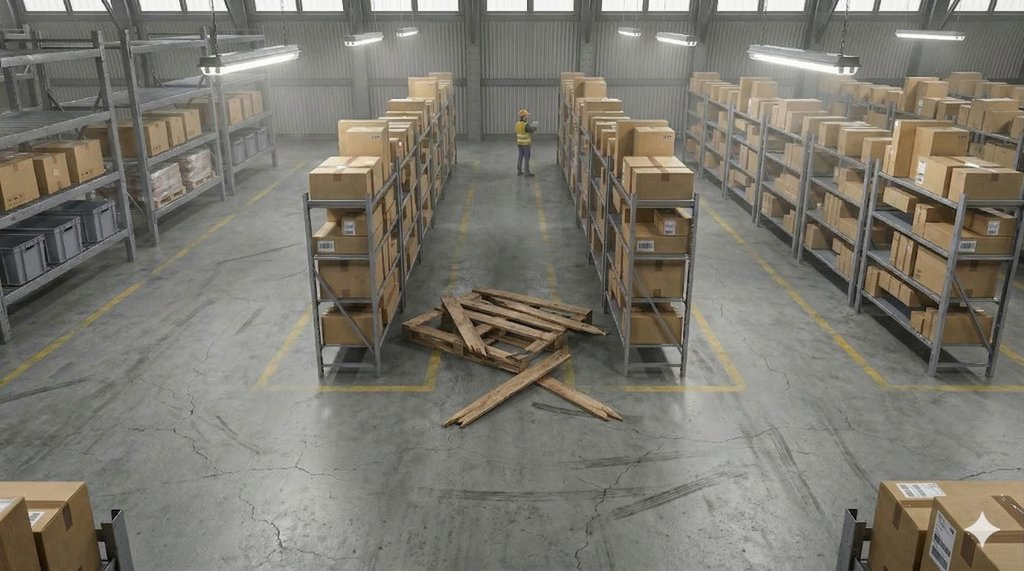empty_shelf: (1, 23, 274, 142)
obstacle: (360, 275, 665, 468)
person: (499, 94, 571, 197)
safety_helmet: (513, 106, 537, 121)
safety_vest: (510, 120, 539, 151)
